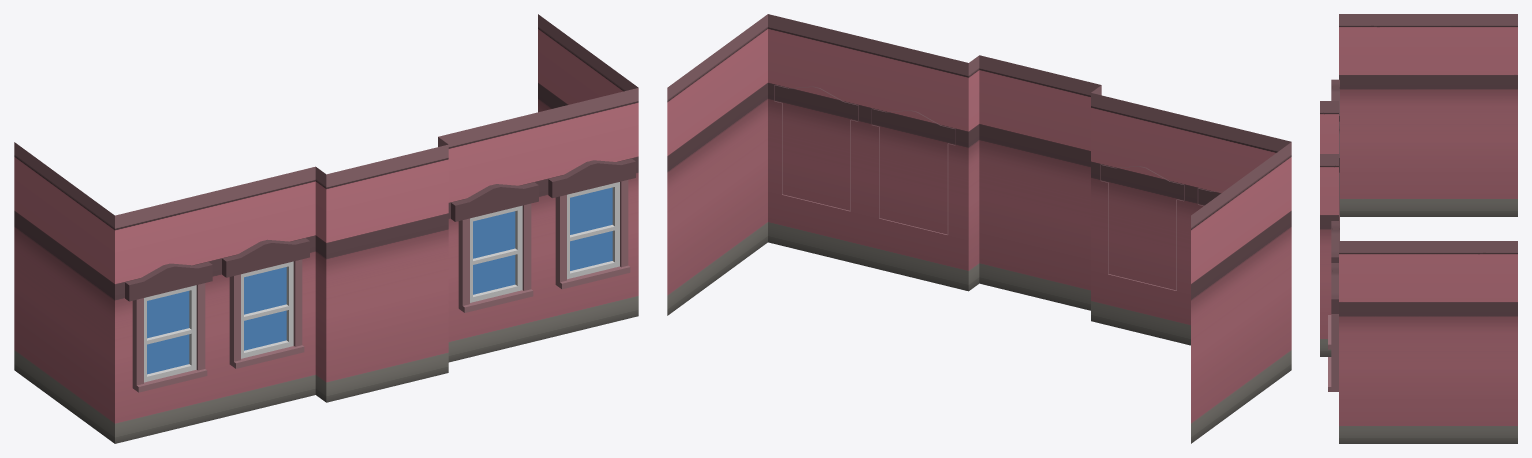
Rendered from Build3_2F.FBX.
3 renders of one model, left to right at view 1: azimuth 30°, elevation 25°; view 2: azimuth 150°, elevation 25°; view 3: azimuth 270°, elevation 25°, orthographic. The views are drawn at different scales.
Visible parts, largest first — view 1: Box023; view 2: Box023; view 3: Box023.
Boxes of the visible parts, box(x1,y1,x2,y2) form: Box023: box(14, 14, 638, 443); Box023: box(667, 14, 1291, 443); Box023: box(1320, 14, 1517, 443).
Bounding box in the file's own units: 6 × 2.5 × 2.21.
